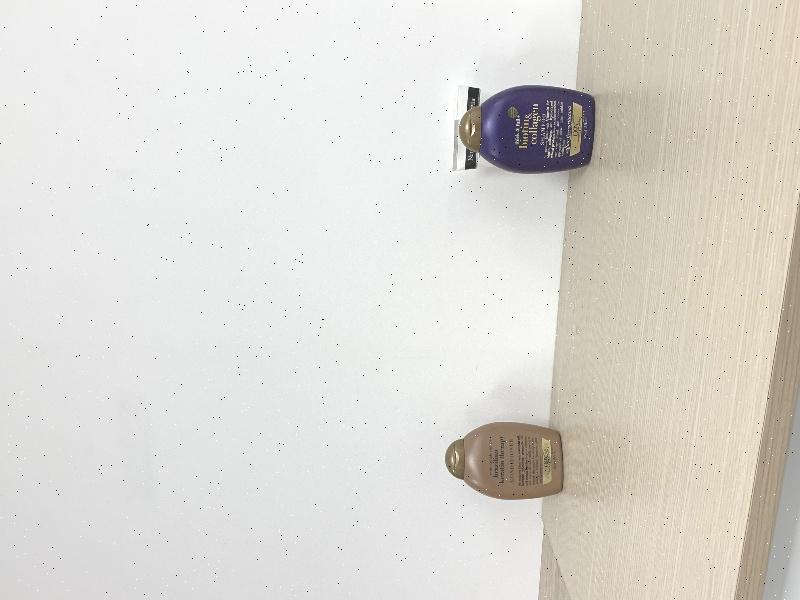BiotinCollagen_Shampoo: (460, 85, 596, 174)
BrazilianKerationTherapy_Conditioner: (445, 421, 564, 500)
